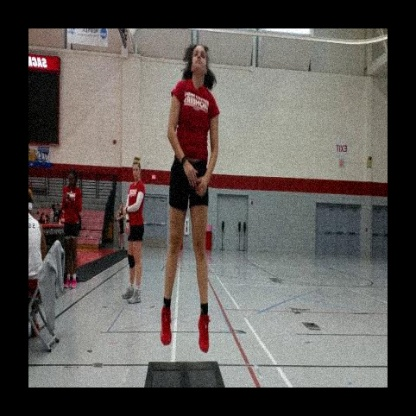lateral_flexion_right: (159, 43, 220, 353)
stance_width_normal: (159, 77, 220, 354)
